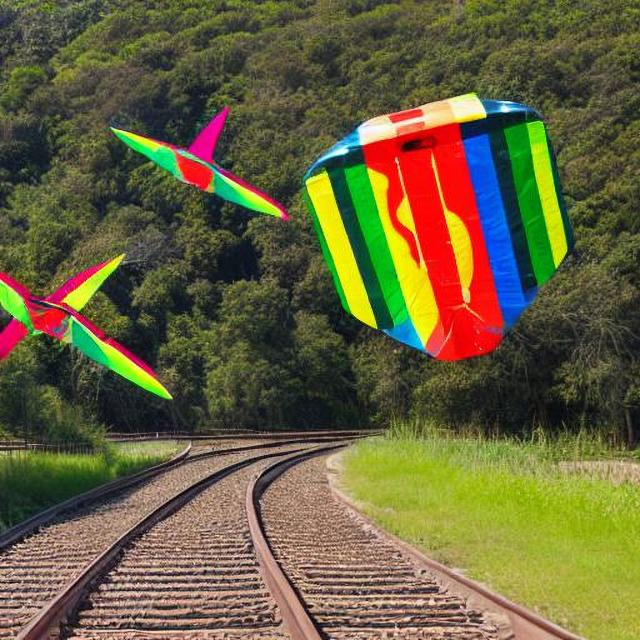floating object: (303, 95, 578, 358), (0, 256, 171, 396), (108, 110, 288, 220)
